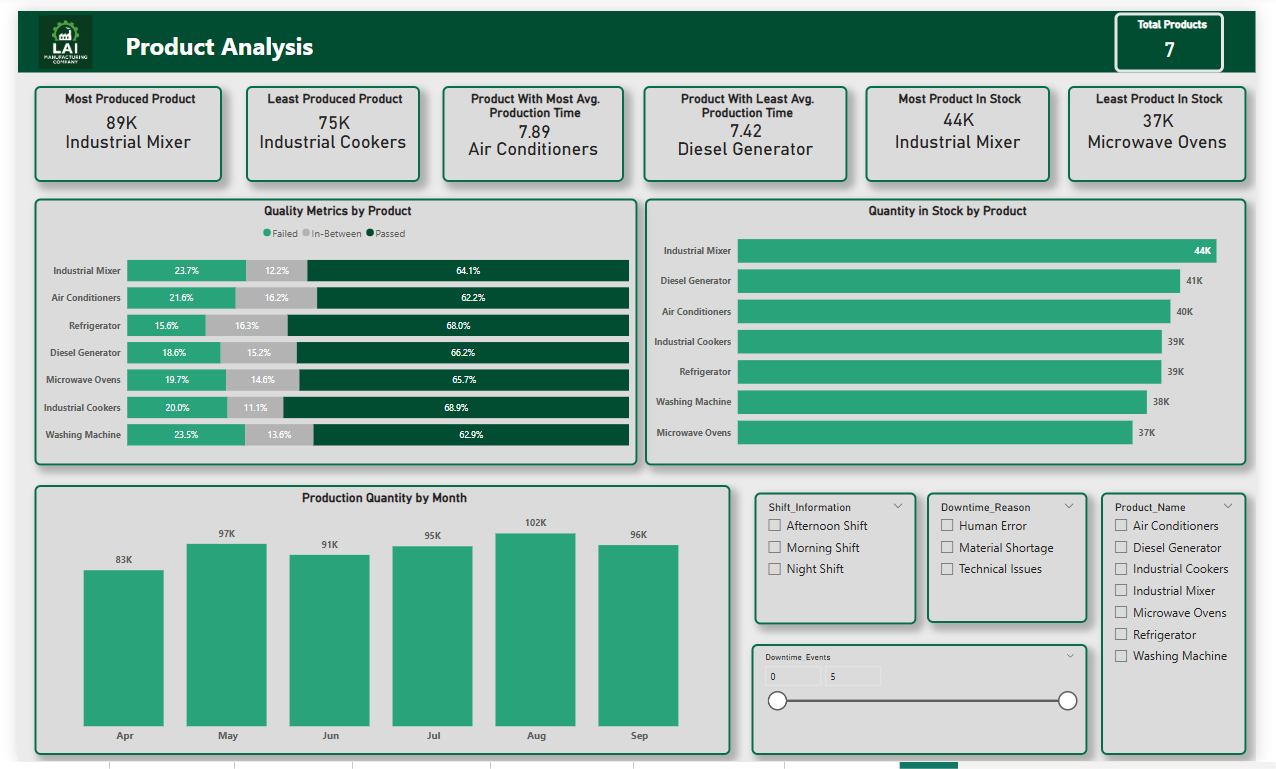

This screenshot's page, from the dashboard's own definition file:
{"tool":"powerbi","page":{"name":"Product","canvas":[1650,1000],"ordinal":1},"visuals":[{"type":"shape","box":[0,0,1650,82],"z":0},{"type":"textbox","box":[138,18,380,64],"z":1000},{"type":"card","title":"Most Produced Product","fields":{"Values":["Measure_Table.Most Produced Product"]},"box":[22,100,250,128],"z":2000},{"type":"card","title":"Least Product In Stock","fields":{"Values":["Measure_Table.LeastProdinstock"]},"box":[1400,100,238,128],"z":3000},{"type":"card","title":"Product With Least Avg. Production Time","fields":{"Values":["Measure_Table.LeastAvgProdTime"]},"box":[834,100,272,128],"z":4000},{"type":"card","title":"Product With Most Avg. Production Time","fields":{"Values":["Measure_Table.TopAvgProdTime"]},"box":[566,100,242,128],"z":5000},{"type":"card","title":"Most Product In Stock","fields":{"Values":["Measure_Table.TopProdinStock"]},"box":[1130,100,246,128],"z":6000},{"type":"card","title":"Least Produced Product","fields":{"Values":["Measure_Table.Least Produced Product"]},"box":[304,100,232,128],"z":7000},{"type":"card","fields":{"Values":["Measure_Table.Most Produced"]},"box":[106,126,64,44],"z":8000},{"type":"card","fields":{"Values":["Measure_Table.LowProdinstock"]},"box":[1480,112,80,66],"z":9000},{"type":"card","fields":{"Values":["Measure_Table.MostProdinstock"]},"box":[1214,110,80,66],"z":10000},{"type":"card","fields":{"Values":["Measure_Table.Avglowestprodtime"]},"box":[930,126,80,64],"z":11000},{"type":"card","fields":{"Values":["Measure_Table.AvgHighestprodtime"]},"box":[648,126,80,66],"z":12000},{"type":"card","fields":{"Values":["Measure_Table.LeastProduced"]},"box":[388,114,66,66],"z":13000},{"type":"hundredPercentStackedBarChart","title":"Quality Metrics by Product","fields":{"Y":["Measure_Table.Total"],"Category":["Product_Data.Product_Name"],"Series":["Operations_Data.Quality_Metrics"]},"box":[22,250,804,356],"z":14000},{"type":"barChart","title":"Quantity in Stock by Product","fields":{"Category":["Product_Data.Product_Name"],"Y":["Sum(Operations_Data.Quantity_in_Stock)"]},"box":[836,250,802,356],"z":15000},{"type":"columnChart","title":" Production Quantity by Month ","fields":{"Y":["Sum(Operations_Data.Production_Quantity)"],"Category":["Date Table.Month Name"]},"box":[22,632,928,360],"z":16000},{"type":"slicer","fields":{"Values":["Product_Data.Product_Name"]},"box":[1444,642,194,350],"z":17000},{"type":"slicer","fields":{"Values":["Employee_Data.Shift_Information"]},"box":[982,642,216,176],"z":18000},{"type":"slicer","fields":{"Values":["Operations_Data.Downtime_Reason"]},"box":[1212,642,214,174],"z":19000},{"type":"slicer","fields":{"Values":["Operations_Data.Downtime_Events"]},"box":[978,844,448,148],"z":20000},{"type":"card","title":"Total Products","fields":{"Values":["CountNonNull(Product_Data.Product_ID)"]},"box":[1462,2,146,80],"z":21000},{"type":"image","box":[0,0,126,82],"z":22000}]}

Visuals, with their boxes in screenshot pixels (x1, y1, x2, y2), scaled from the page's 1650x1000 canvas onto the 1276x769 screenshot:
shape: {"left": 0, "top": 0, "right": 1275, "bottom": 63}
textbox: {"left": 107, "top": 14, "right": 401, "bottom": 63}
"Most Produced Product" card: {"left": 17, "top": 77, "right": 210, "bottom": 175}
"Least Product In Stock" card: {"left": 1083, "top": 77, "right": 1267, "bottom": 175}
"Product With Least Avg. Production Time" card: {"left": 645, "top": 77, "right": 855, "bottom": 175}
"Product With Most Avg. Production Time" card: {"left": 438, "top": 77, "right": 625, "bottom": 175}
"Most Product In Stock" card: {"left": 874, "top": 77, "right": 1064, "bottom": 175}
"Least Produced Product" card: {"left": 235, "top": 77, "right": 415, "bottom": 175}
card - Measure_Table.Most Produced: {"left": 82, "top": 97, "right": 131, "bottom": 131}
card - Measure_Table.LowProdinstock: {"left": 1145, "top": 86, "right": 1206, "bottom": 137}
card - Measure_Table.MostProdinstock: {"left": 939, "top": 85, "right": 1001, "bottom": 135}
card - Measure_Table.Avglowestprodtime: {"left": 719, "top": 97, "right": 781, "bottom": 146}
card - Measure_Table.AvgHighestprodtime: {"left": 501, "top": 97, "right": 563, "bottom": 148}
card - Measure_Table.LeastProduced: {"left": 300, "top": 88, "right": 351, "bottom": 138}
"Quality Metrics by Product" hundredPercentStackedBarChart: {"left": 17, "top": 192, "right": 639, "bottom": 466}
"Quantity in Stock by Product" barChart: {"left": 647, "top": 192, "right": 1267, "bottom": 466}
" Production Quantity by Month " columnChart: {"left": 17, "top": 486, "right": 735, "bottom": 763}
slicer - Product_Data.Product_Name: {"left": 1117, "top": 494, "right": 1267, "bottom": 763}
slicer - Employee_Data.Shift_Information: {"left": 759, "top": 494, "right": 926, "bottom": 629}
slicer - Operations_Data.Downtime_Reason: {"left": 937, "top": 494, "right": 1103, "bottom": 628}
slicer - Operations_Data.Downtime_Events: {"left": 756, "top": 649, "right": 1103, "bottom": 763}
"Total Products" card: {"left": 1131, "top": 2, "right": 1244, "bottom": 63}
image: {"left": 0, "top": 0, "right": 97, "bottom": 63}
